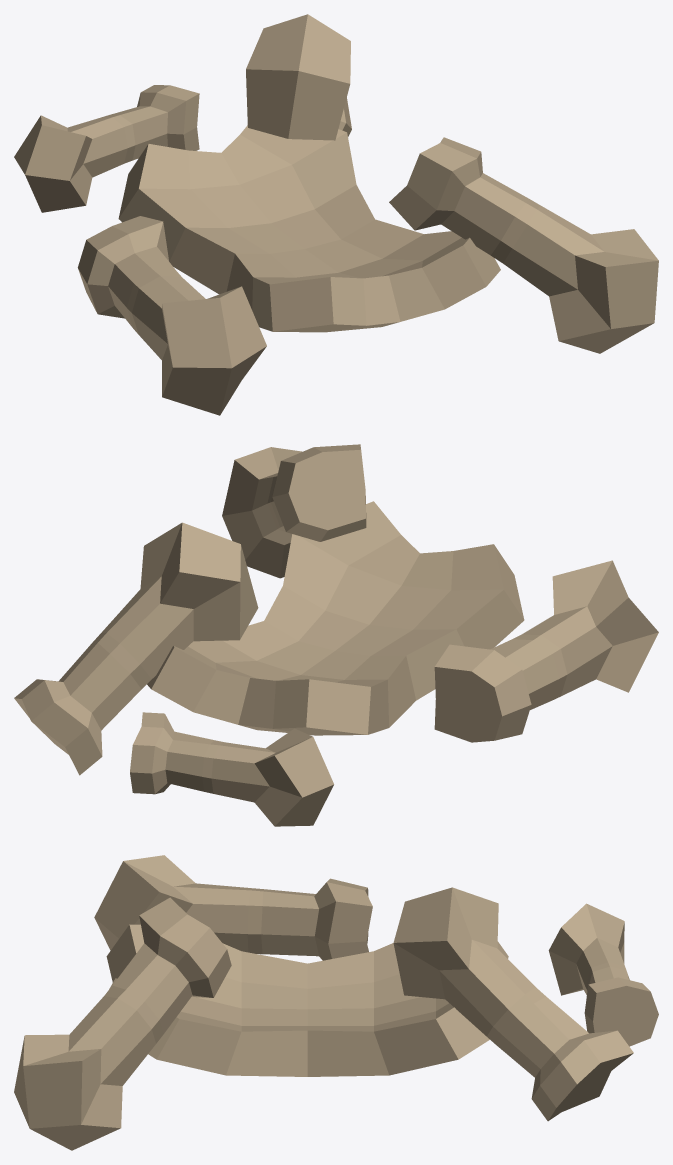
Rendered from Bones2.glb.
3 views of the same model, one above another, from view 1: azimuth 30°, elevation 25°; view 2: azimuth 150°, elevation 25°; view 3: azimuth 270°, elevation 25° (orthographic). The views are drawn at different scales.
Parts seen in each view (by area): view 1: BonePile2; view 2: BonePile2; view 3: BonePile2.
Part boxes in pixels (x1,y1,x2,y2): BonePile2: [14, 14, 658, 415]; BonePile2: [14, 444, 658, 826]; BonePile2: [14, 855, 658, 1150].
Size of the model in its own units: 1.47 by 0.6859 by 1.85.
